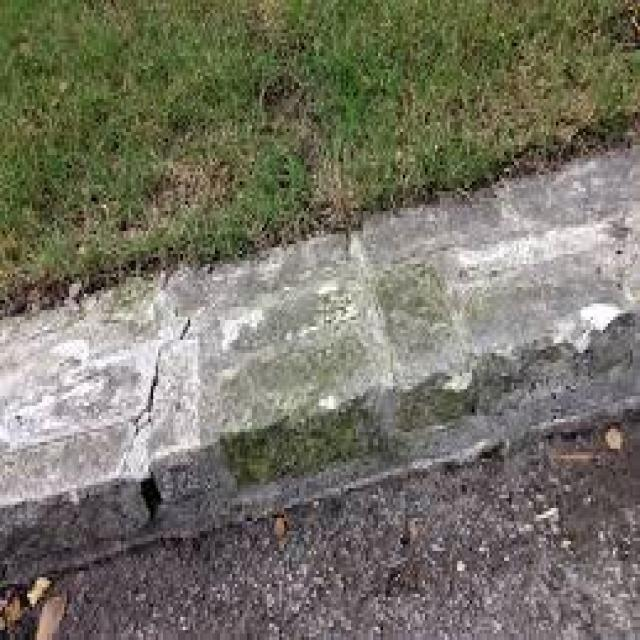curb: (6, 143, 635, 575)
